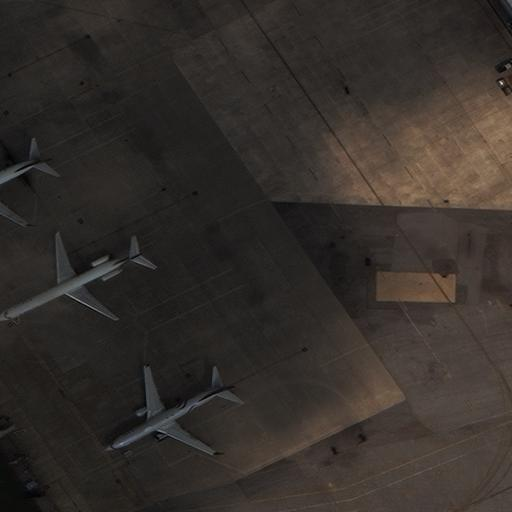Medium Civil Transport: (0, 234, 143, 321), (102, 367, 235, 455), (0, 145, 53, 226)
